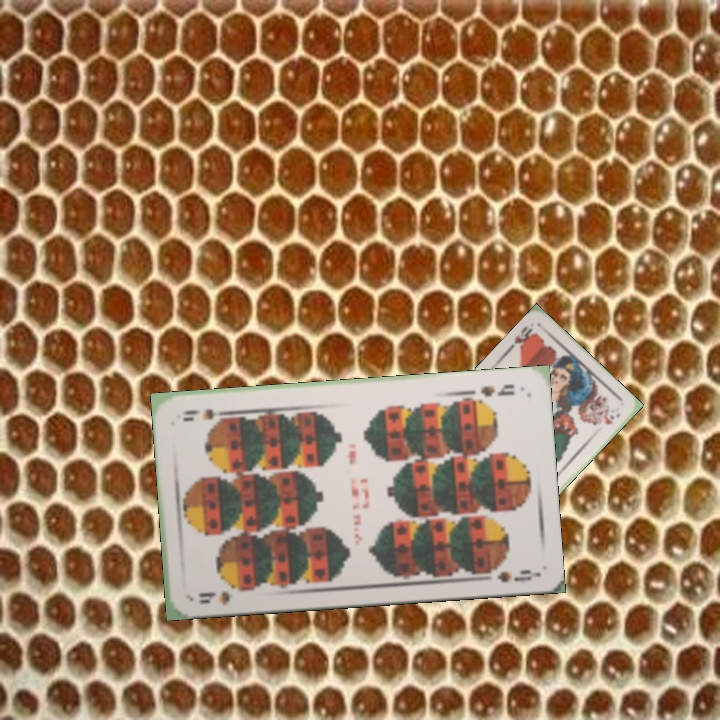HO: (510, 322, 539, 353)
S9: (195, 580, 248, 607), (477, 380, 517, 399)
